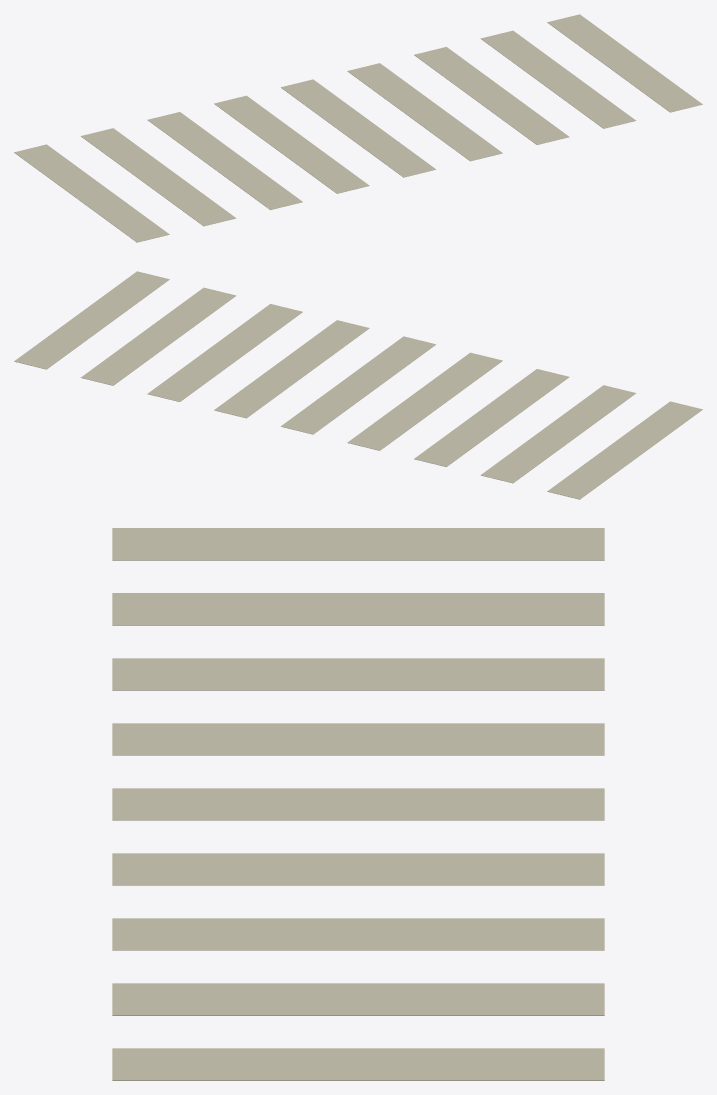
File: pedestrian-crossing.glb
The picture shows the model from 3 angles, top to bottom: view 1: azimuth 30°, elevation 25°; view 2: azimuth 150°, elevation 25°; view 3: azimuth 270°, elevation 25°; orthographic projection. The views are drawn at different scales.
Visible parts, largest first — view 1: Painted stripe.003, Painted stripe.005, Painted stripe, Painted stripe.001, Painted stripe.002, Painted stripe.006, Painted stripe.007, Painted stripe.008, Painted stripe.004; view 2: Painted stripe.003, Painted stripe.005, Painted stripe, Painted stripe.001, Painted stripe.002, Painted stripe.006, Painted stripe.007, Painted stripe.008, Painted stripe.004; view 3: Painted stripe, Painted stripe.001, Painted stripe.002, Painted stripe.003, Painted stripe.004, Painted stripe.005, Painted stripe.006, Painted stripe.007, Painted stripe.008.
Boxes of the visible parts, box(x1,y1,x2,y2) form: Painted stripe.003: box(214, 95, 369, 193); Painted stripe.005: box(347, 63, 502, 161); Painted stripe: box(14, 144, 169, 242); Painted stripe.001: box(81, 128, 236, 226); Painted stripe.002: box(147, 112, 302, 209); Painted stripe.006: box(414, 47, 569, 144); Painted stripe.007: box(480, 30, 635, 128); Painted stripe.008: box(547, 14, 702, 112); Painted stripe.004: box(281, 79, 435, 177); Painted stripe.003: box(347, 352, 502, 450); Painted stripe.005: box(214, 320, 369, 418); Painted stripe: box(547, 401, 702, 499); Painted stripe.001: box(480, 385, 635, 483); Painted stripe.002: box(414, 369, 569, 466); Painted stripe.006: box(147, 304, 302, 401); Painted stripe.007: box(81, 287, 236, 385); Painted stripe.008: box(14, 271, 169, 369); Painted stripe.004: box(281, 336, 435, 434); Painted stripe: box(112, 528, 604, 560); Painted stripe.001: box(112, 593, 604, 625); Painted stripe.002: box(112, 658, 604, 690); Painted stripe.003: box(112, 723, 604, 755); Painted stripe.004: box(112, 788, 604, 820); Painted stripe.005: box(112, 853, 604, 885); Painted stripe.006: box(112, 918, 604, 950); Painted stripe.007: box(112, 983, 604, 1015); Painted stripe.008: box(112, 1048, 604, 1080).
Size of the model in its own units: 7.43 by 0.003 by 2.8.
